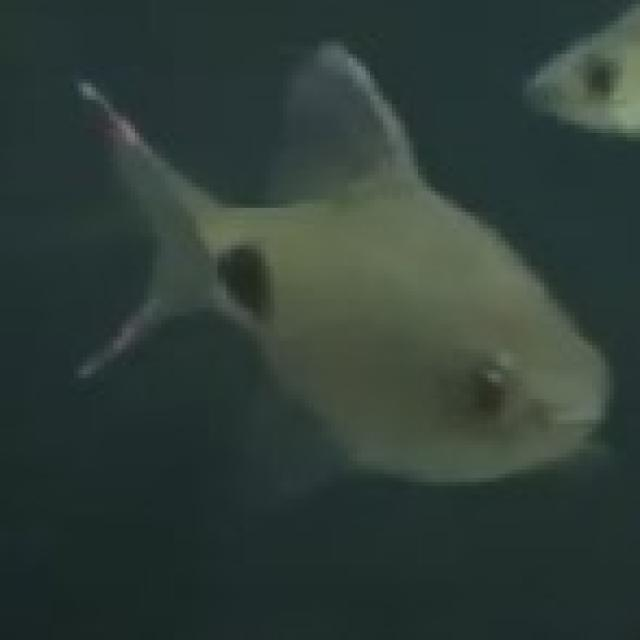Black-Spotted-Barb: (42, 36, 606, 488)
